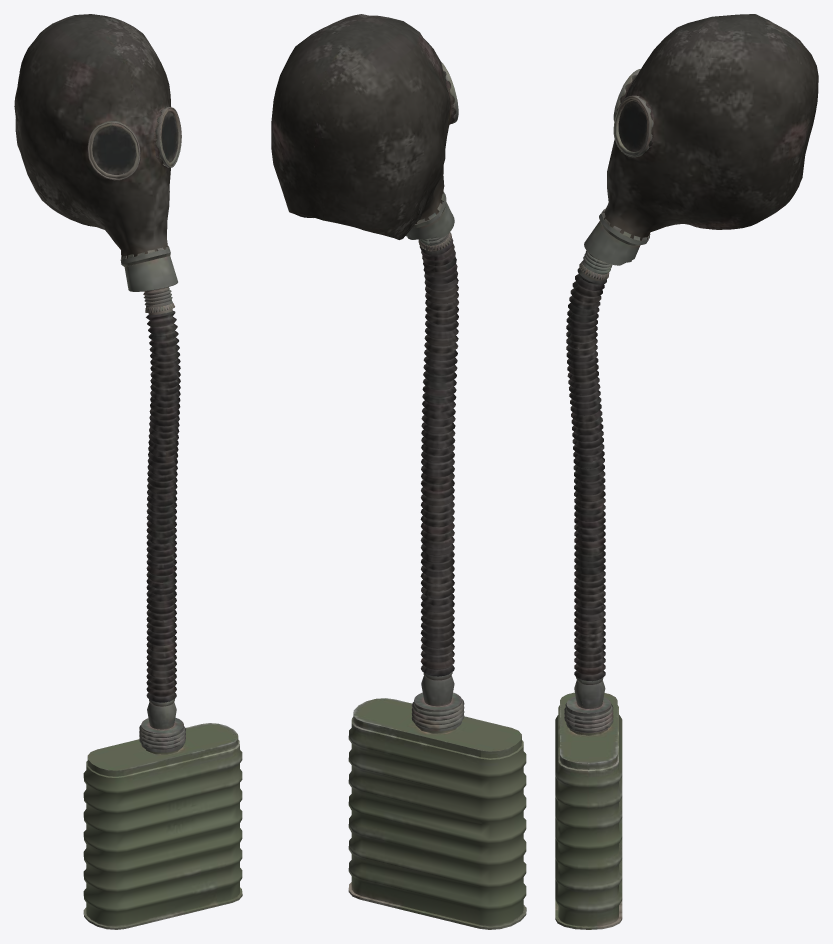
Rendered from ph_old_gas_mask.glb.
3 renders of one model, left to right at view 1: azimuth 30°, elevation 25°; view 2: azimuth 150°, elevation 25°; view 3: azimuth 270°, elevation 25°, orthographic. The views are drawn at different scales.
Visible parts, largest first — view 1: old_gas_mask; view 2: old_gas_mask; view 3: old_gas_mask.
Boxes of the visible parts, x1=… form: old_gas_mask: x1=14, y1=14, x2=242, y2=929; old_gas_mask: x1=271, y1=14, x2=526, y2=929; old_gas_mask: x1=555, y1=14, x2=818, y2=929.
Size of the model in its own units: 0.2105 by 1.13 by 0.3087.
Materials: 1 (1 with a texture image).
